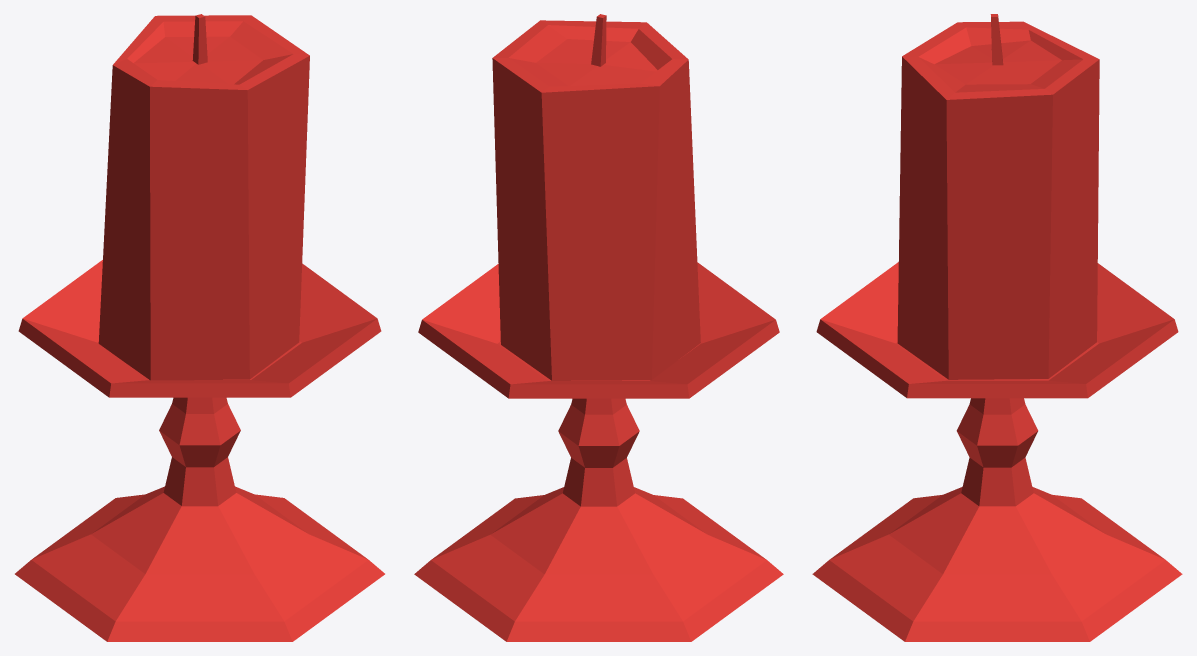
File: SM_Candle_Holder_Short_A_Unlit_Christmas.fbx
3 renders of one model, left to right at view 1: azimuth 30°, elevation 25°; view 2: azimuth 150°, elevation 25°; view 3: azimuth 270°, elevation 25°, orthographic.
Visible parts, largest first — view 1: candle-holder-short-a-unlit-christmas; view 2: candle-holder-short-a-unlit-christmas; view 3: candle-holder-short-a-unlit-christmas.
Boxes of the visible parts, left/top/right/bottom form: candle-holder-short-a-unlit-christmas: left=15, top=14, right=384, bottom=641; candle-holder-short-a-unlit-christmas: left=414, top=14, right=783, bottom=641; candle-holder-short-a-unlit-christmas: left=812, top=14, right=1182, bottom=641.
Size of the model in its own units: 0.1495 by 0.2871 by 0.1727.
